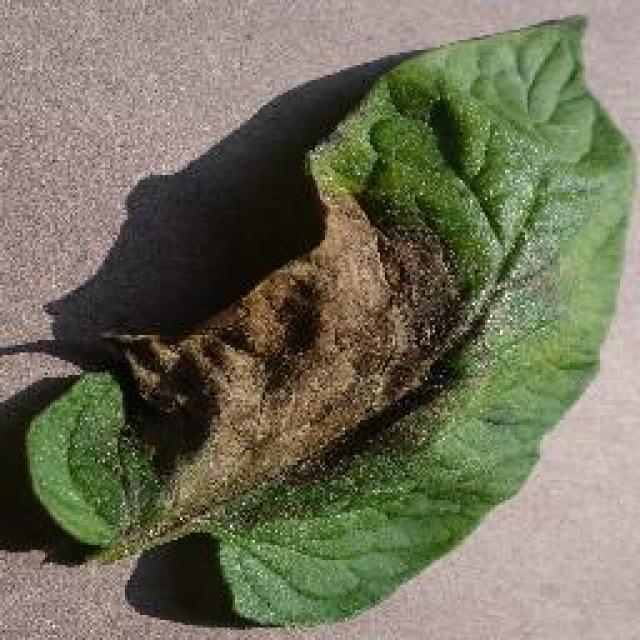Tomato_Late_Blight: (128, 172, 478, 485)
